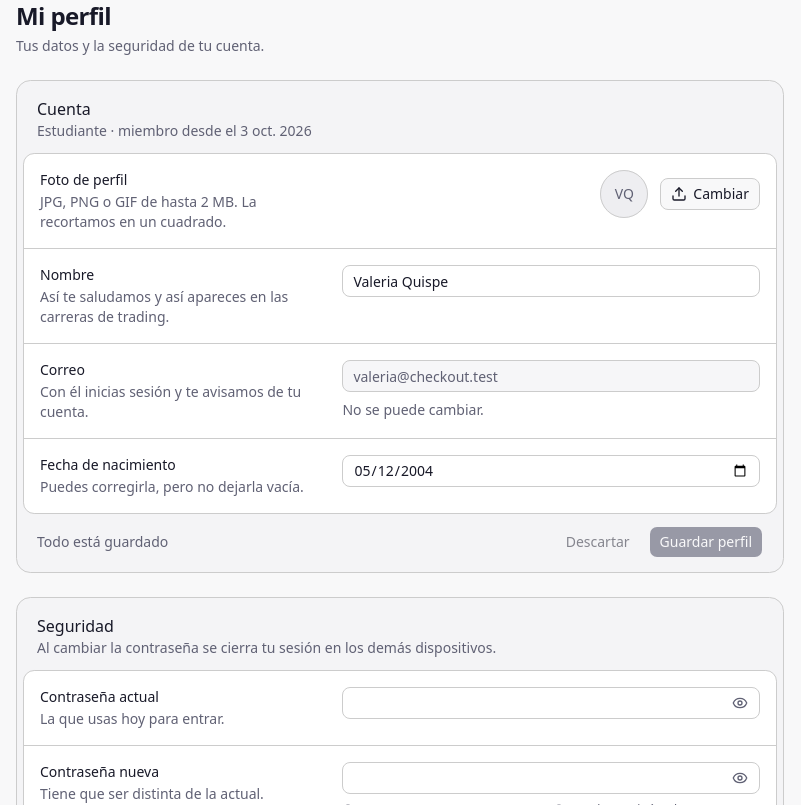
ProfilePage › la contrasena nueva tiene que coincidir y ser distinta de la actual
Step 1. Type "Otra-Clave-2026" into the password field labelled "Contraseña actual" → (551, 703), box [342,687,760,719]
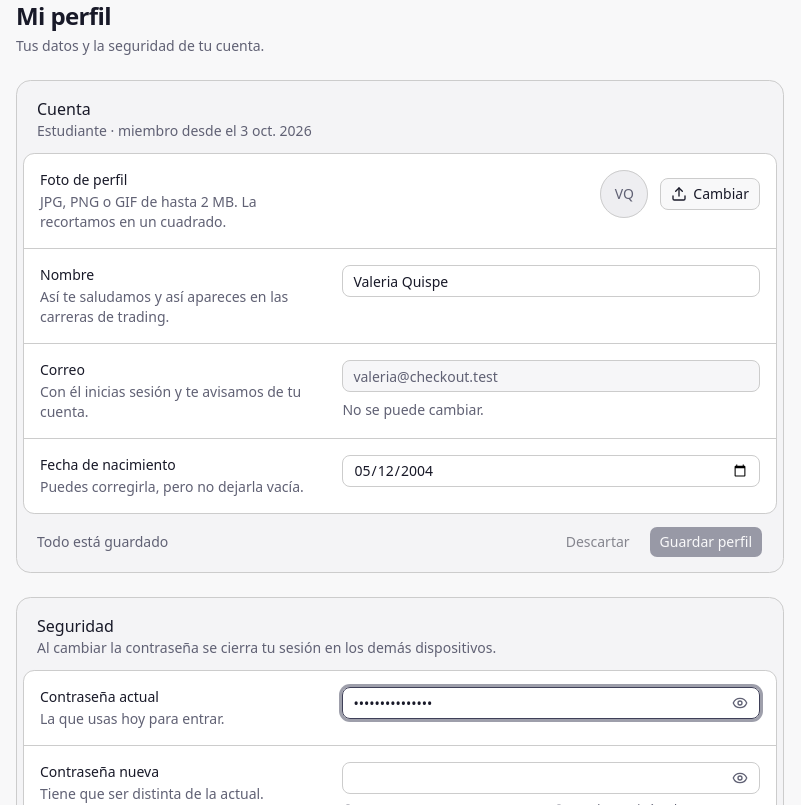
Step 2. Type "Otra-Clave-2026" into the password field labelled "Contraseña nueva" → (551, 778), box [342,762,760,794]
(page scrolled)
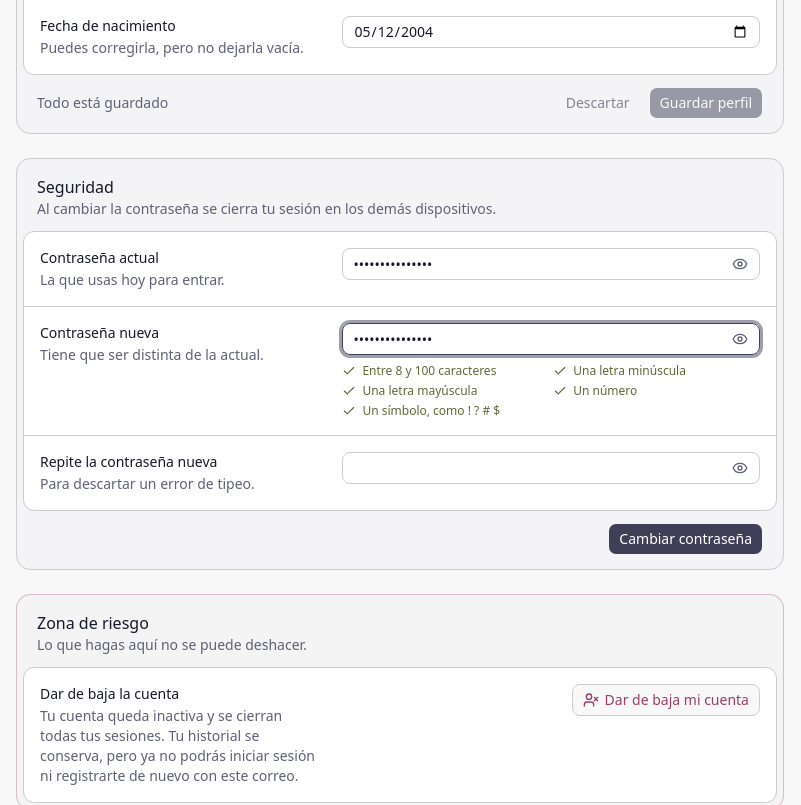
Step 3. Type "Otra-Cosa-2026" into the password field labelled "Repite la contraseña nueva" → (551, 468), box [342,452,760,484]
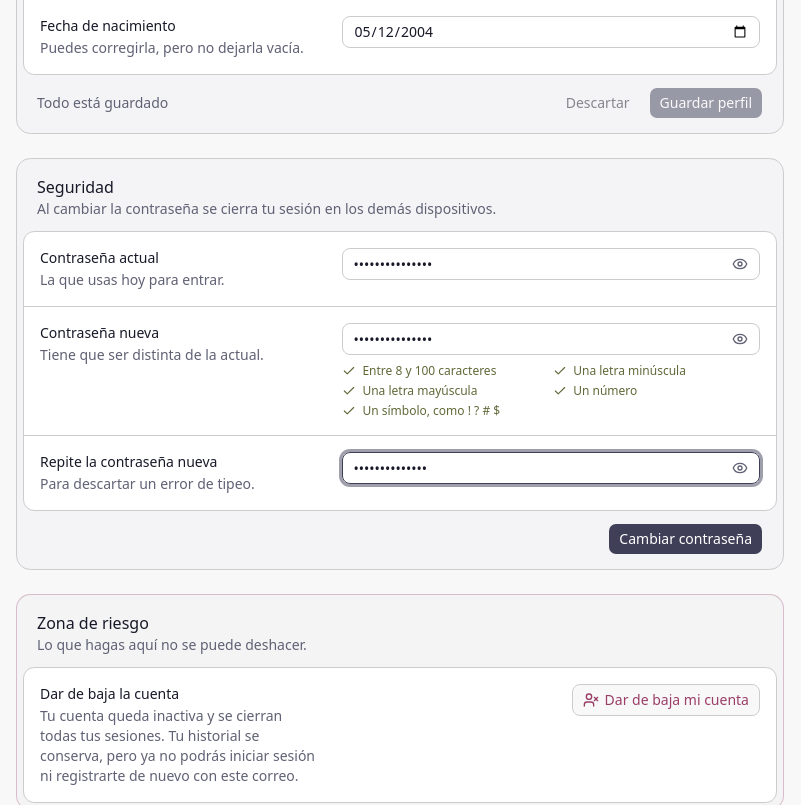
Step 4. Click the button "Cambiar contraseña" → (686, 539), box [608,523,763,555]
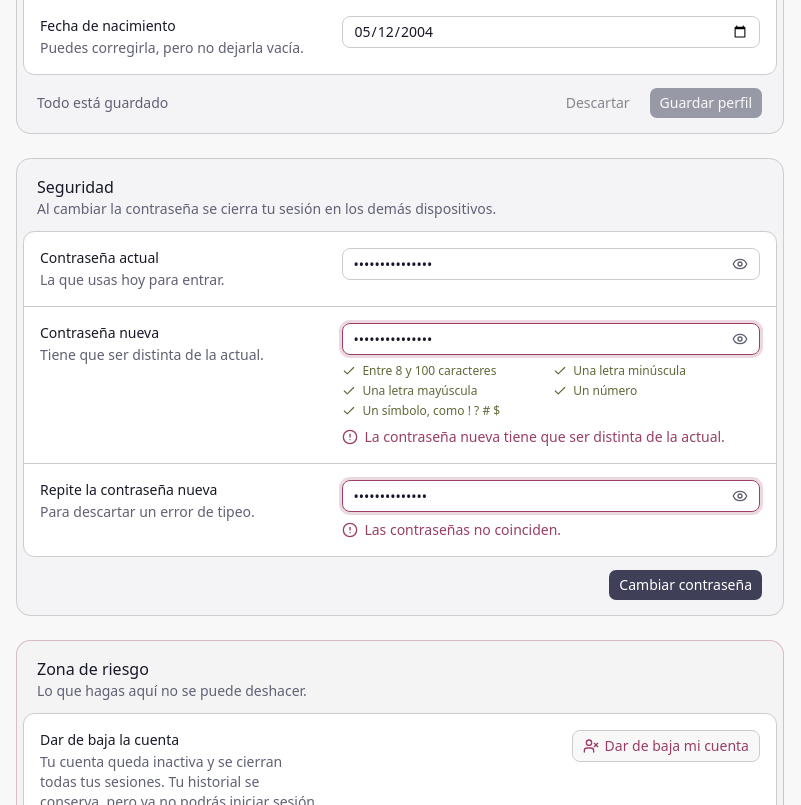
Check: the text "Las contraseñas no coinciden." is shown, box [342,520,561,539]
Check: the text "La contraseña nueva tiene que ser distinta de la actual." is shown, box [342,427,760,447]
